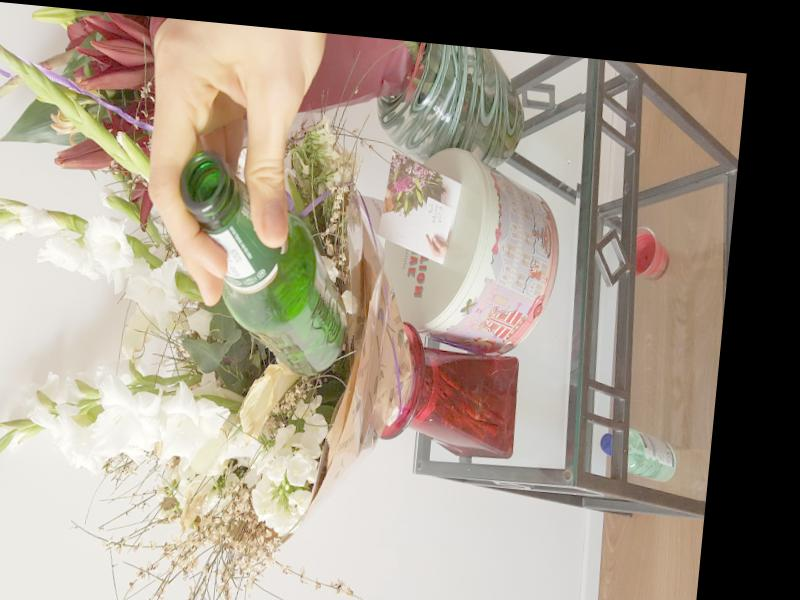Beer: (162, 152, 360, 377)
